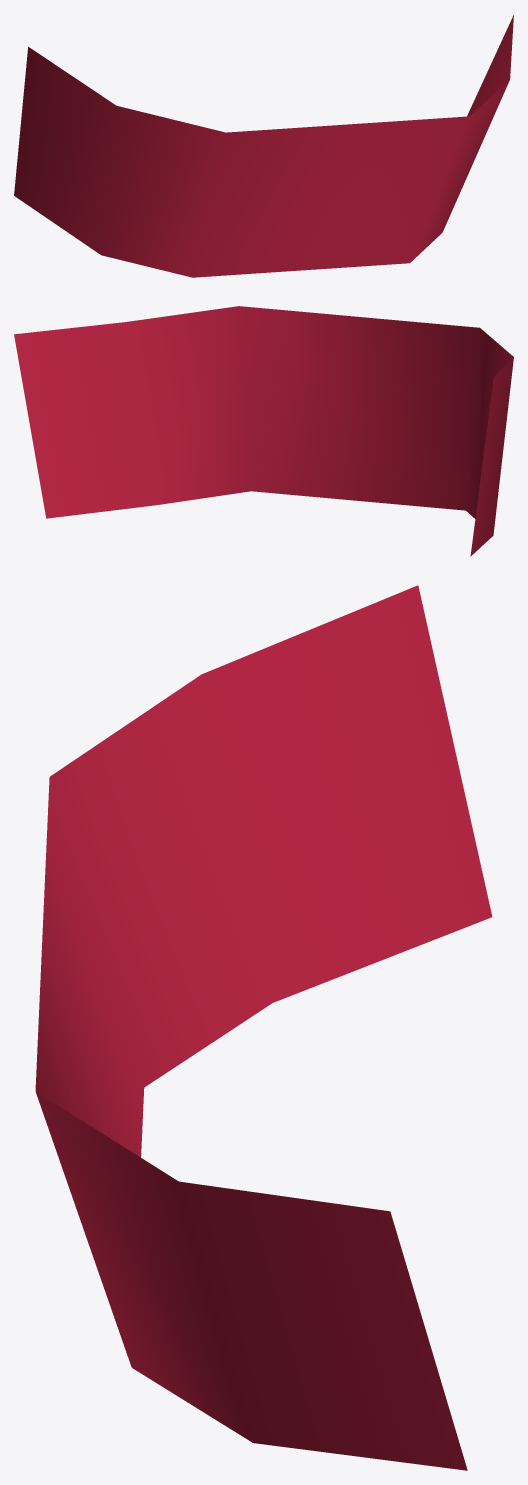
3 renders of one model, top to bottom at view 1: azimuth 30°, elevation 25°; view 2: azimuth 150°, elevation 25°; view 3: azimuth 270°, elevation 25°, orthographic. The views are drawn at different scales.
Parts seen in each view (by area): view 1: ef_419; view 2: ef_419; view 3: ef_419.
Boxes of the visible parts, x1=… form: ef_419: x1=14, y1=15, x2=513, y2=277; ef_419: x1=14, y1=306, x2=513, y2=556; ef_419: x1=35, y1=585, x2=492, y2=1470.
Size of the model in its own units: 0.8138 by 0.4009 by 0.3363.
Materials: 1 (1 with a texture image).
